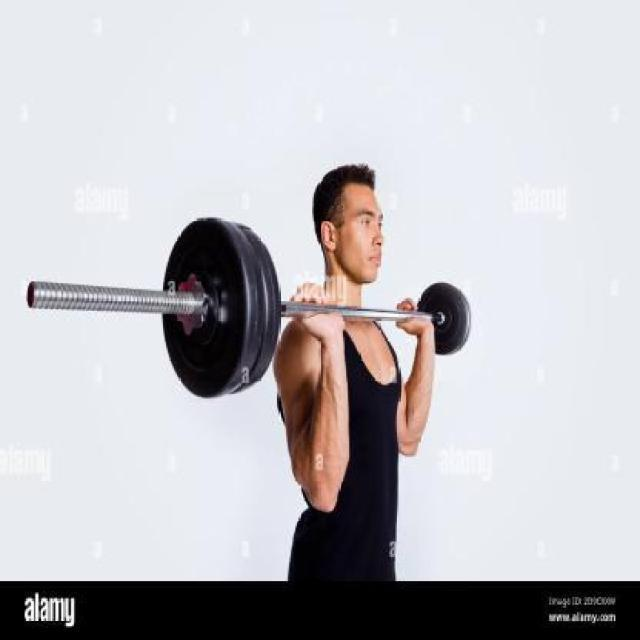barbell: (149, 203, 292, 416)
